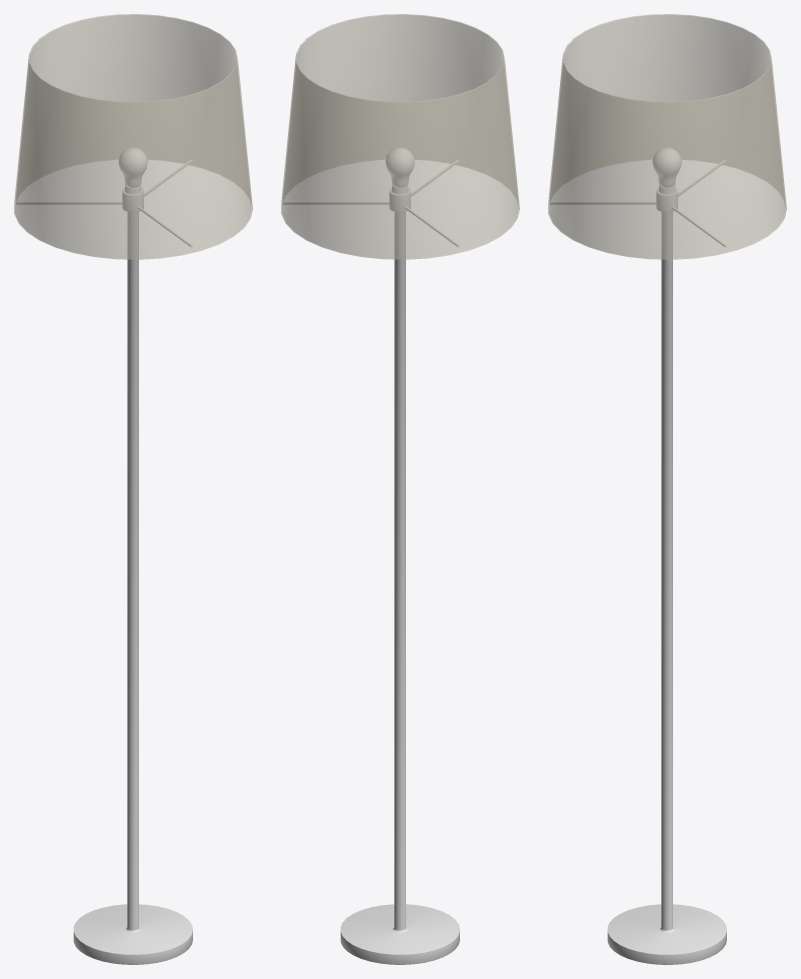
File: lamp.glb
The picture shows the model from 3 angles, left to right: view 1: azimuth 30°, elevation 25°; view 2: azimuth 150°, elevation 25°; view 3: azimuth 270°, elevation 25°; orthographic projection.
Parts seen in each view (by area): view 1: Lamphead, Lamp stand, Lightbulb; view 2: Lamphead, Lamp stand, Lightbulb; view 3: Lamphead, Lamp stand, Lightbulb.
Part boxes in pixels (x1,y1,x2,y2): Lamphead: (14, 14, 252, 259); Lamp stand: (16, 160, 192, 964); Lightbulb: (118, 147, 147, 187); Lamphead: (281, 14, 519, 259); Lamp stand: (283, 160, 459, 964); Lightbulb: (385, 147, 414, 187); Lamphead: (548, 14, 786, 259); Lamp stand: (550, 160, 726, 964); Lightbulb: (652, 147, 681, 187).
Size of the model in its own units: 0.3851 by 1.57 by 0.3847.
